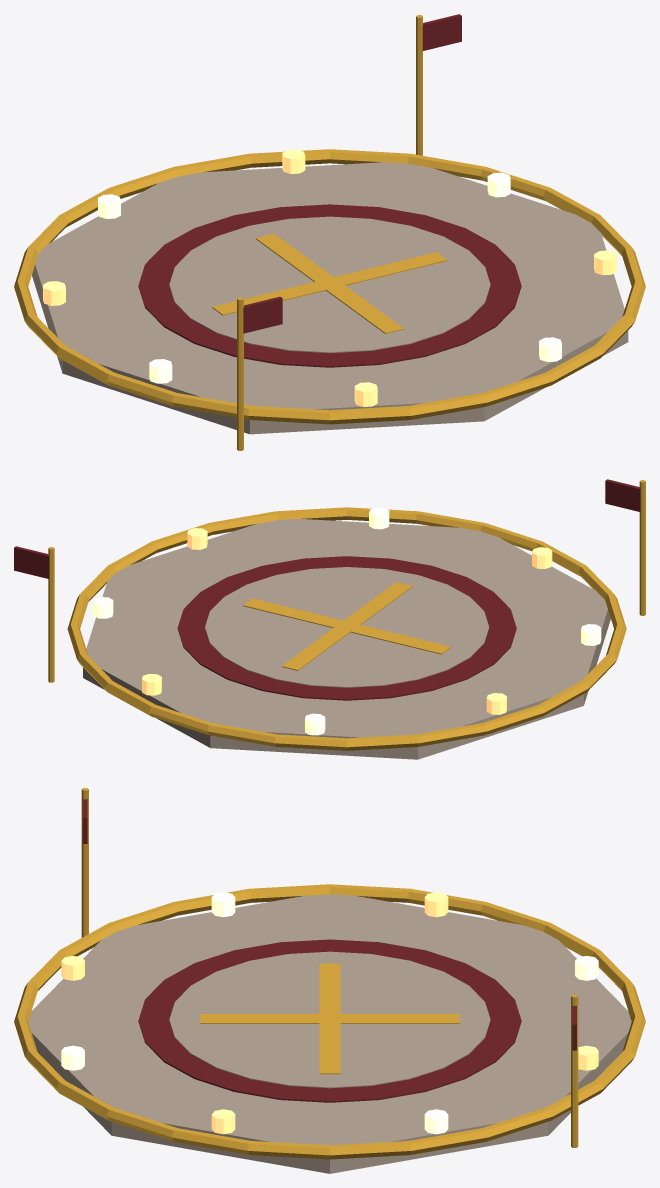
The model's file is plataforma-pouso-n3.glb.
3 renders of one model, top to bottom at view 1: azimuth 30°, elevation 25°; view 2: azimuth 150°, elevation 25°; view 3: azimuth 270°, elevation 25°, orthographic. The views are drawn at different scales.
Visible parts, largest first — view 1: Cylinder, Cylinder.002, Torus, Cylinder.001, Cube.001, Cube, Cube.002, Cube.003, Cylinder.012, Cylinder.011; view 2: Cylinder, Cylinder.002, Torus, Cylinder.001, Cube, Cube.001, Cylinder.011, Cylinder.012, Cube.003, Cube.002, Cylinder.005, Cylinder.009 (+6 smaller); view 3: Cylinder, Cylinder.002, Torus, Cylinder.001, Cube.001, Cube, Cylinder.011, Cylinder.012, Cylinder.003, Cylinder.010, Cylinder.006, Cylinder.007.
Boxes of the visible parts, x1=… form: Cylinder: x1=32, y1=162, x2=628, y2=434; Cylinder.002: x1=169, y1=216, x2=490, y2=353; Torus: x1=14, y1=149, x2=645, y2=424; Cylinder.001: x1=138, y1=204, x2=521, y2=367; Cube.001: x1=256, y1=233, x2=403, y2=333; Cube: x1=212, y1=252, x2=447, y2=315; Cube.002: x1=422, y1=14, x2=461, y2=50; Cube.003: x1=243, y1=296, x2=282, y2=333; Cylinder.012: x1=237, y1=297, x2=243, y2=450; Cylinder.011: x1=416, y1=15, x2=422, y2=155; Cylinder: x1=83, y1=519, x2=610, y2=759; Cylinder.002: x1=205, y1=567, x2=489, y2=687; Torus: x1=67, y1=507, x2=626, y2=750; Cylinder.001: x1=177, y1=556, x2=516, y2=700; Cube: x1=243, y1=598, x2=451, y2=654; Cube.001: x1=281, y1=582, x2=412, y2=670; Cylinder.011: x1=48, y1=547, x2=54, y2=682; Cylinder.012: x1=639, y1=480, x2=645, y2=615; Cube.003: x1=605, y1=479, x2=640, y2=511; Cube.002: x1=14, y1=546, x2=48, y2=578; Cylinder.005: x1=305, y1=713, x2=325, y2=735; Cylinder.009: x1=369, y1=507, x2=389, y2=529; Cylinder: x1=28, y1=894, x2=631, y2=1173; Cylinder.002: x1=169, y1=951, x2=490, y2=1088; Torus: x1=14, y1=884, x2=645, y2=1159; Cylinder.001: x1=138, y1=939, x2=521, y2=1102; Cube.001: x1=200, y1=1014, x2=459, y2=1023; Cube: x1=319, y1=963, x2=340, y2=1074; Cylinder.011: x1=571, y1=994, x2=578, y2=1147; Cylinder.012: x1=81, y1=788, x2=88, y2=937; Cylinder.003: x1=424, y1=1109, x2=448, y2=1134; Cylinder.010: x1=211, y1=1109, x2=235, y2=1134; Cylinder.006: x1=424, y1=892, x2=448, y2=917; Cylinder.007: x1=211, y1=892, x2=235, y2=917.
Size of the model in its own units: 2.66 by 0.7 by 2.66.
